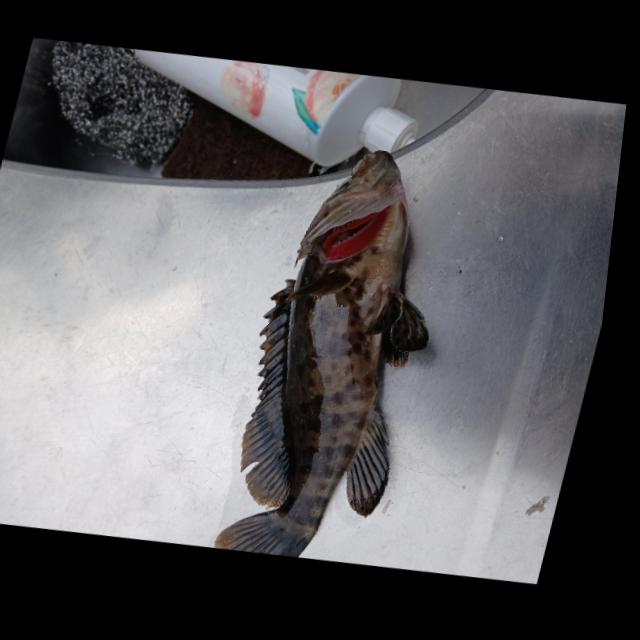Groupers: (203, 140, 482, 572)
